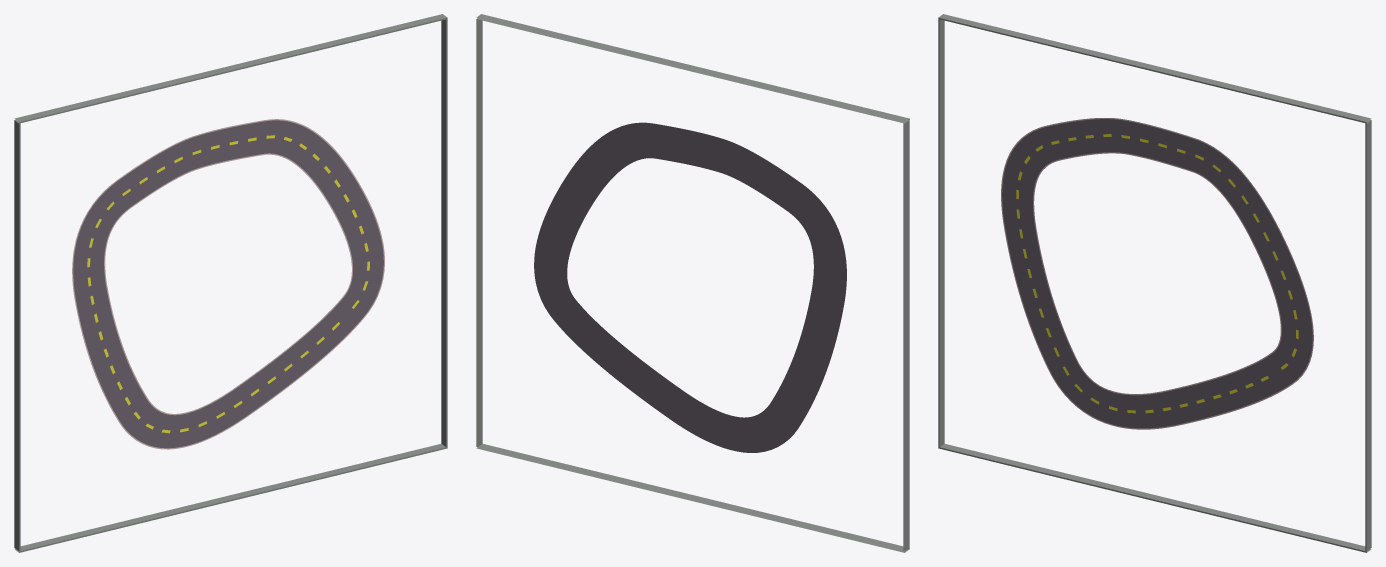
Rendered from track.obj.
3 views of the same model, side by side, from view 1: azimuth 30°, elevation 25°; view 2: azimuth 150°, elevation 25°; view 3: azimuth 330°, elevation 25° (orthographic).
Size of the model in its own units: 15.06 by 14.47 by 0.3.
